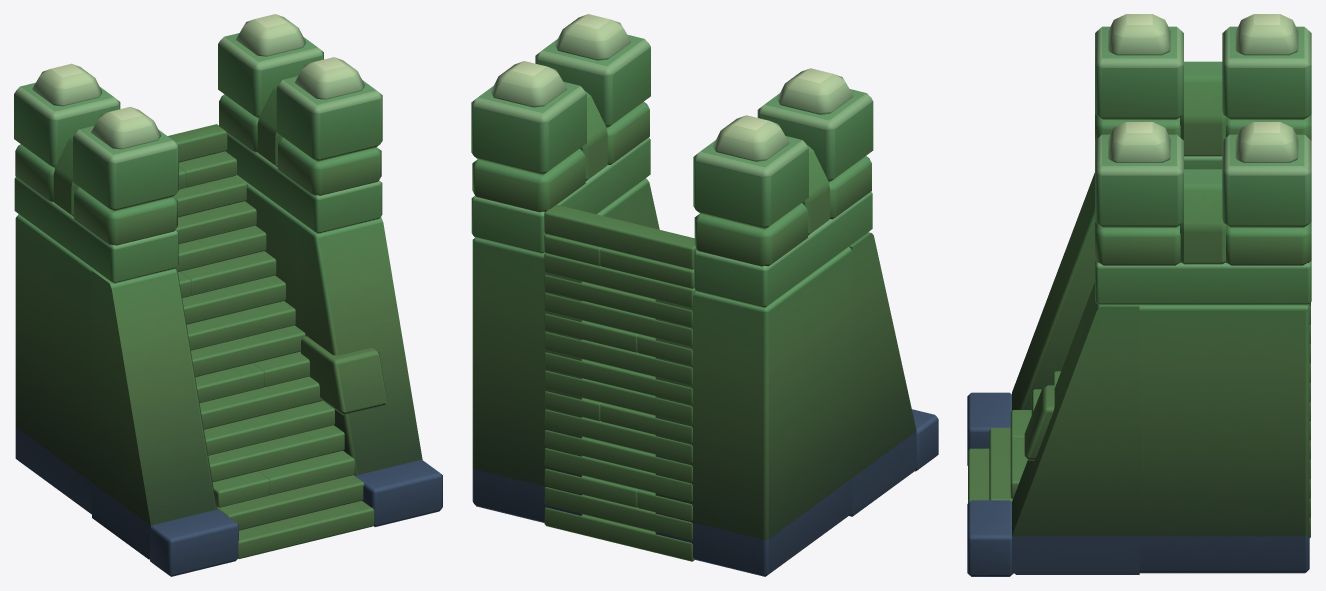
Rendered from stairs.fbx.
The picture shows the model from 3 angles, left to right: view 1: azimuth 30°, elevation 25°; view 2: azimuth 150°, elevation 25°; view 3: azimuth 270°, elevation 25°; orthographic projection. The views are drawn at different scales.
Parts seen in each view (by area): view 1: stairs; view 2: stairs; view 3: stairs.
Part boxes in pixels (x1,y1,x2,y2): stairs: (14,14,442,576); stairs: (471,14,938,576); stairs: (967,14,1311,576).
Size of the model in its own units: 405 by 561 by 405.
